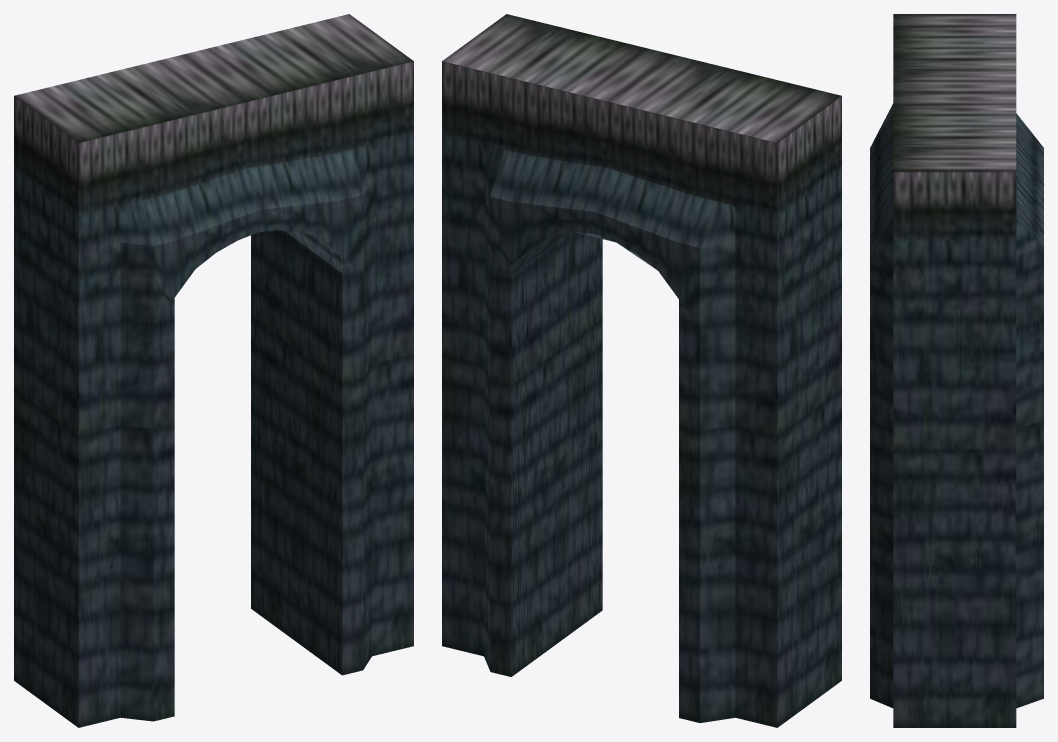
Rendered from arch.fbx.
3 views of the same model, side by side, from view 1: azimuth 30°, elevation 25°; view 2: azimuth 150°, elevation 25°; view 3: azimuth 270°, elevation 25° (orthographic). The views are drawn at different scales.
Parts seen in each view (by area): view 1: Cube; view 2: Cube; view 3: Cube.
Part boxes in pixels (left/top/right/bottom): Cube: left=14, top=14, right=413, bottom=727; Cube: left=442, top=14, right=841, bottom=727; Cube: left=870, top=14, right=1043, bottom=727.
Size of the model in its own units: 600 by 1000 by 282.
1 material, 1 textured.
